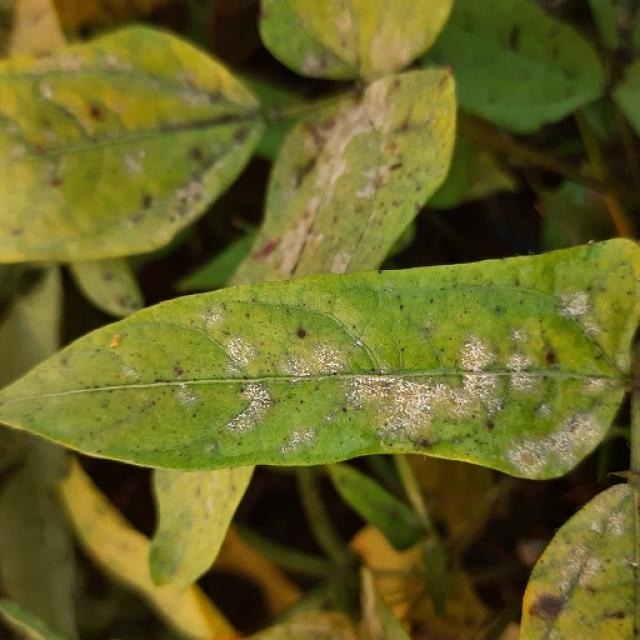Blackgram: (0, 239, 639, 478)
Powdery_Mildew: (206, 312, 389, 453), (444, 330, 517, 442), (556, 282, 632, 375), (361, 376, 464, 435), (517, 405, 604, 472), (277, 336, 358, 379), (225, 381, 274, 436), (457, 369, 506, 415), (459, 334, 496, 371), (601, 501, 634, 542), (222, 336, 259, 372), (224, 334, 259, 372), (175, 177, 206, 210), (558, 291, 590, 319), (578, 555, 609, 583), (282, 427, 314, 453), (174, 384, 200, 409), (200, 305, 225, 329), (329, 250, 352, 275), (356, 178, 376, 200), (119, 363, 141, 382), (123, 154, 142, 175), (588, 517, 609, 535), (202, 442, 217, 455)
